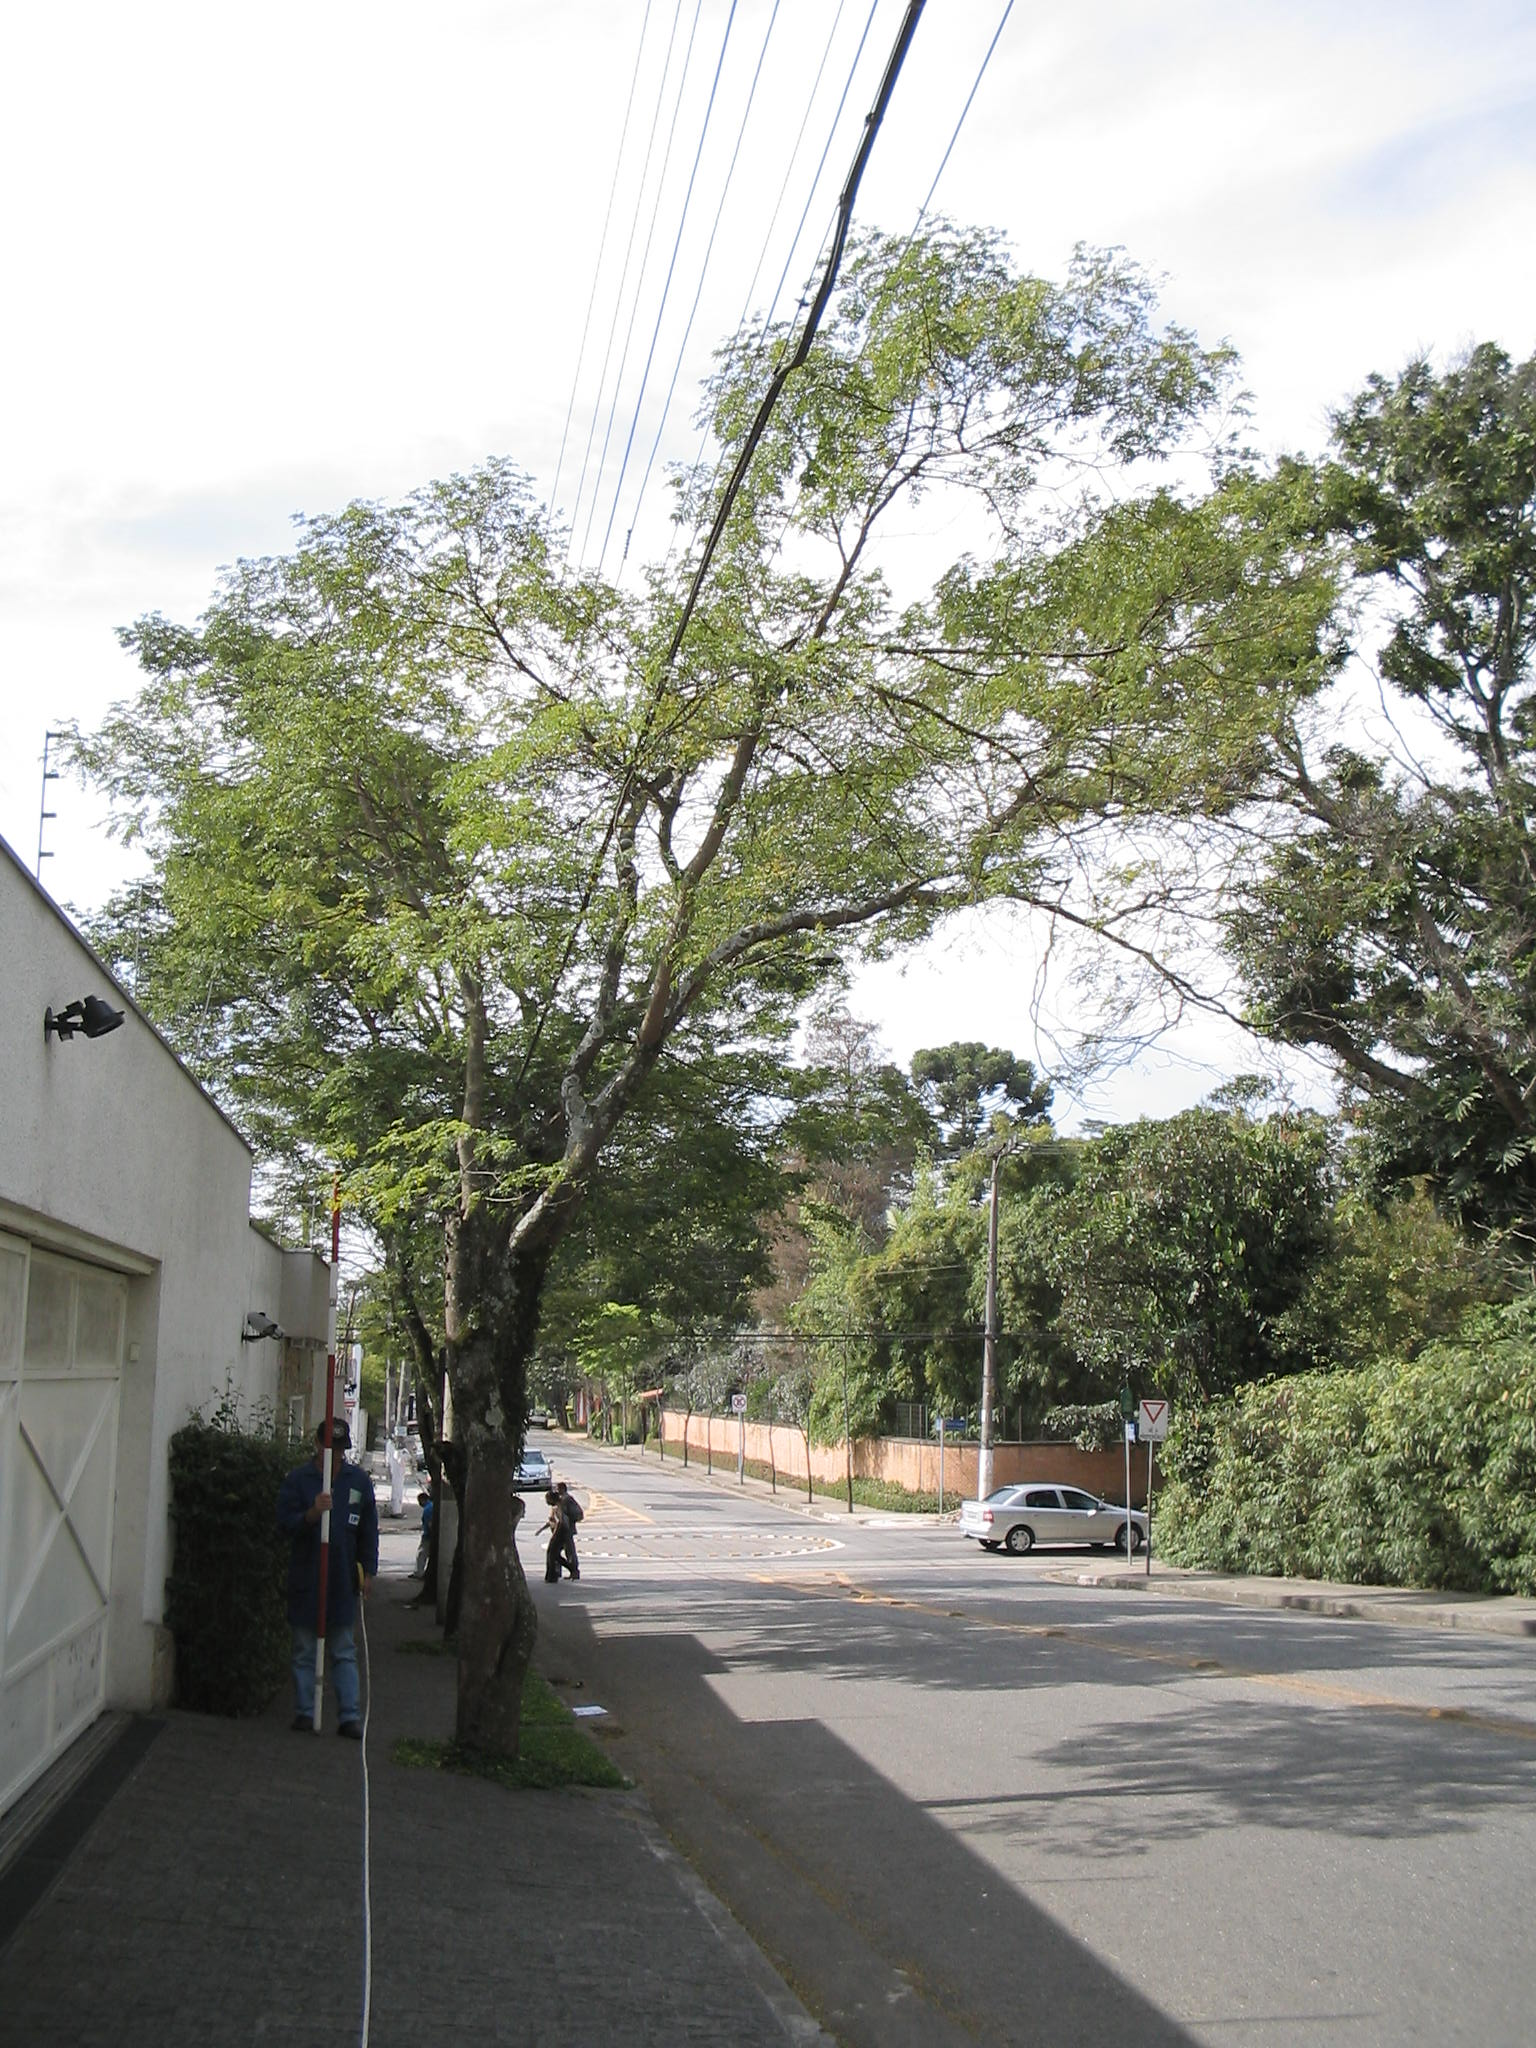crown: (66, 211, 1342, 1256)
stem: (395, 1280, 579, 1755)
stick: (295, 1182, 357, 1732)
tree: (63, 206, 1346, 1759)
